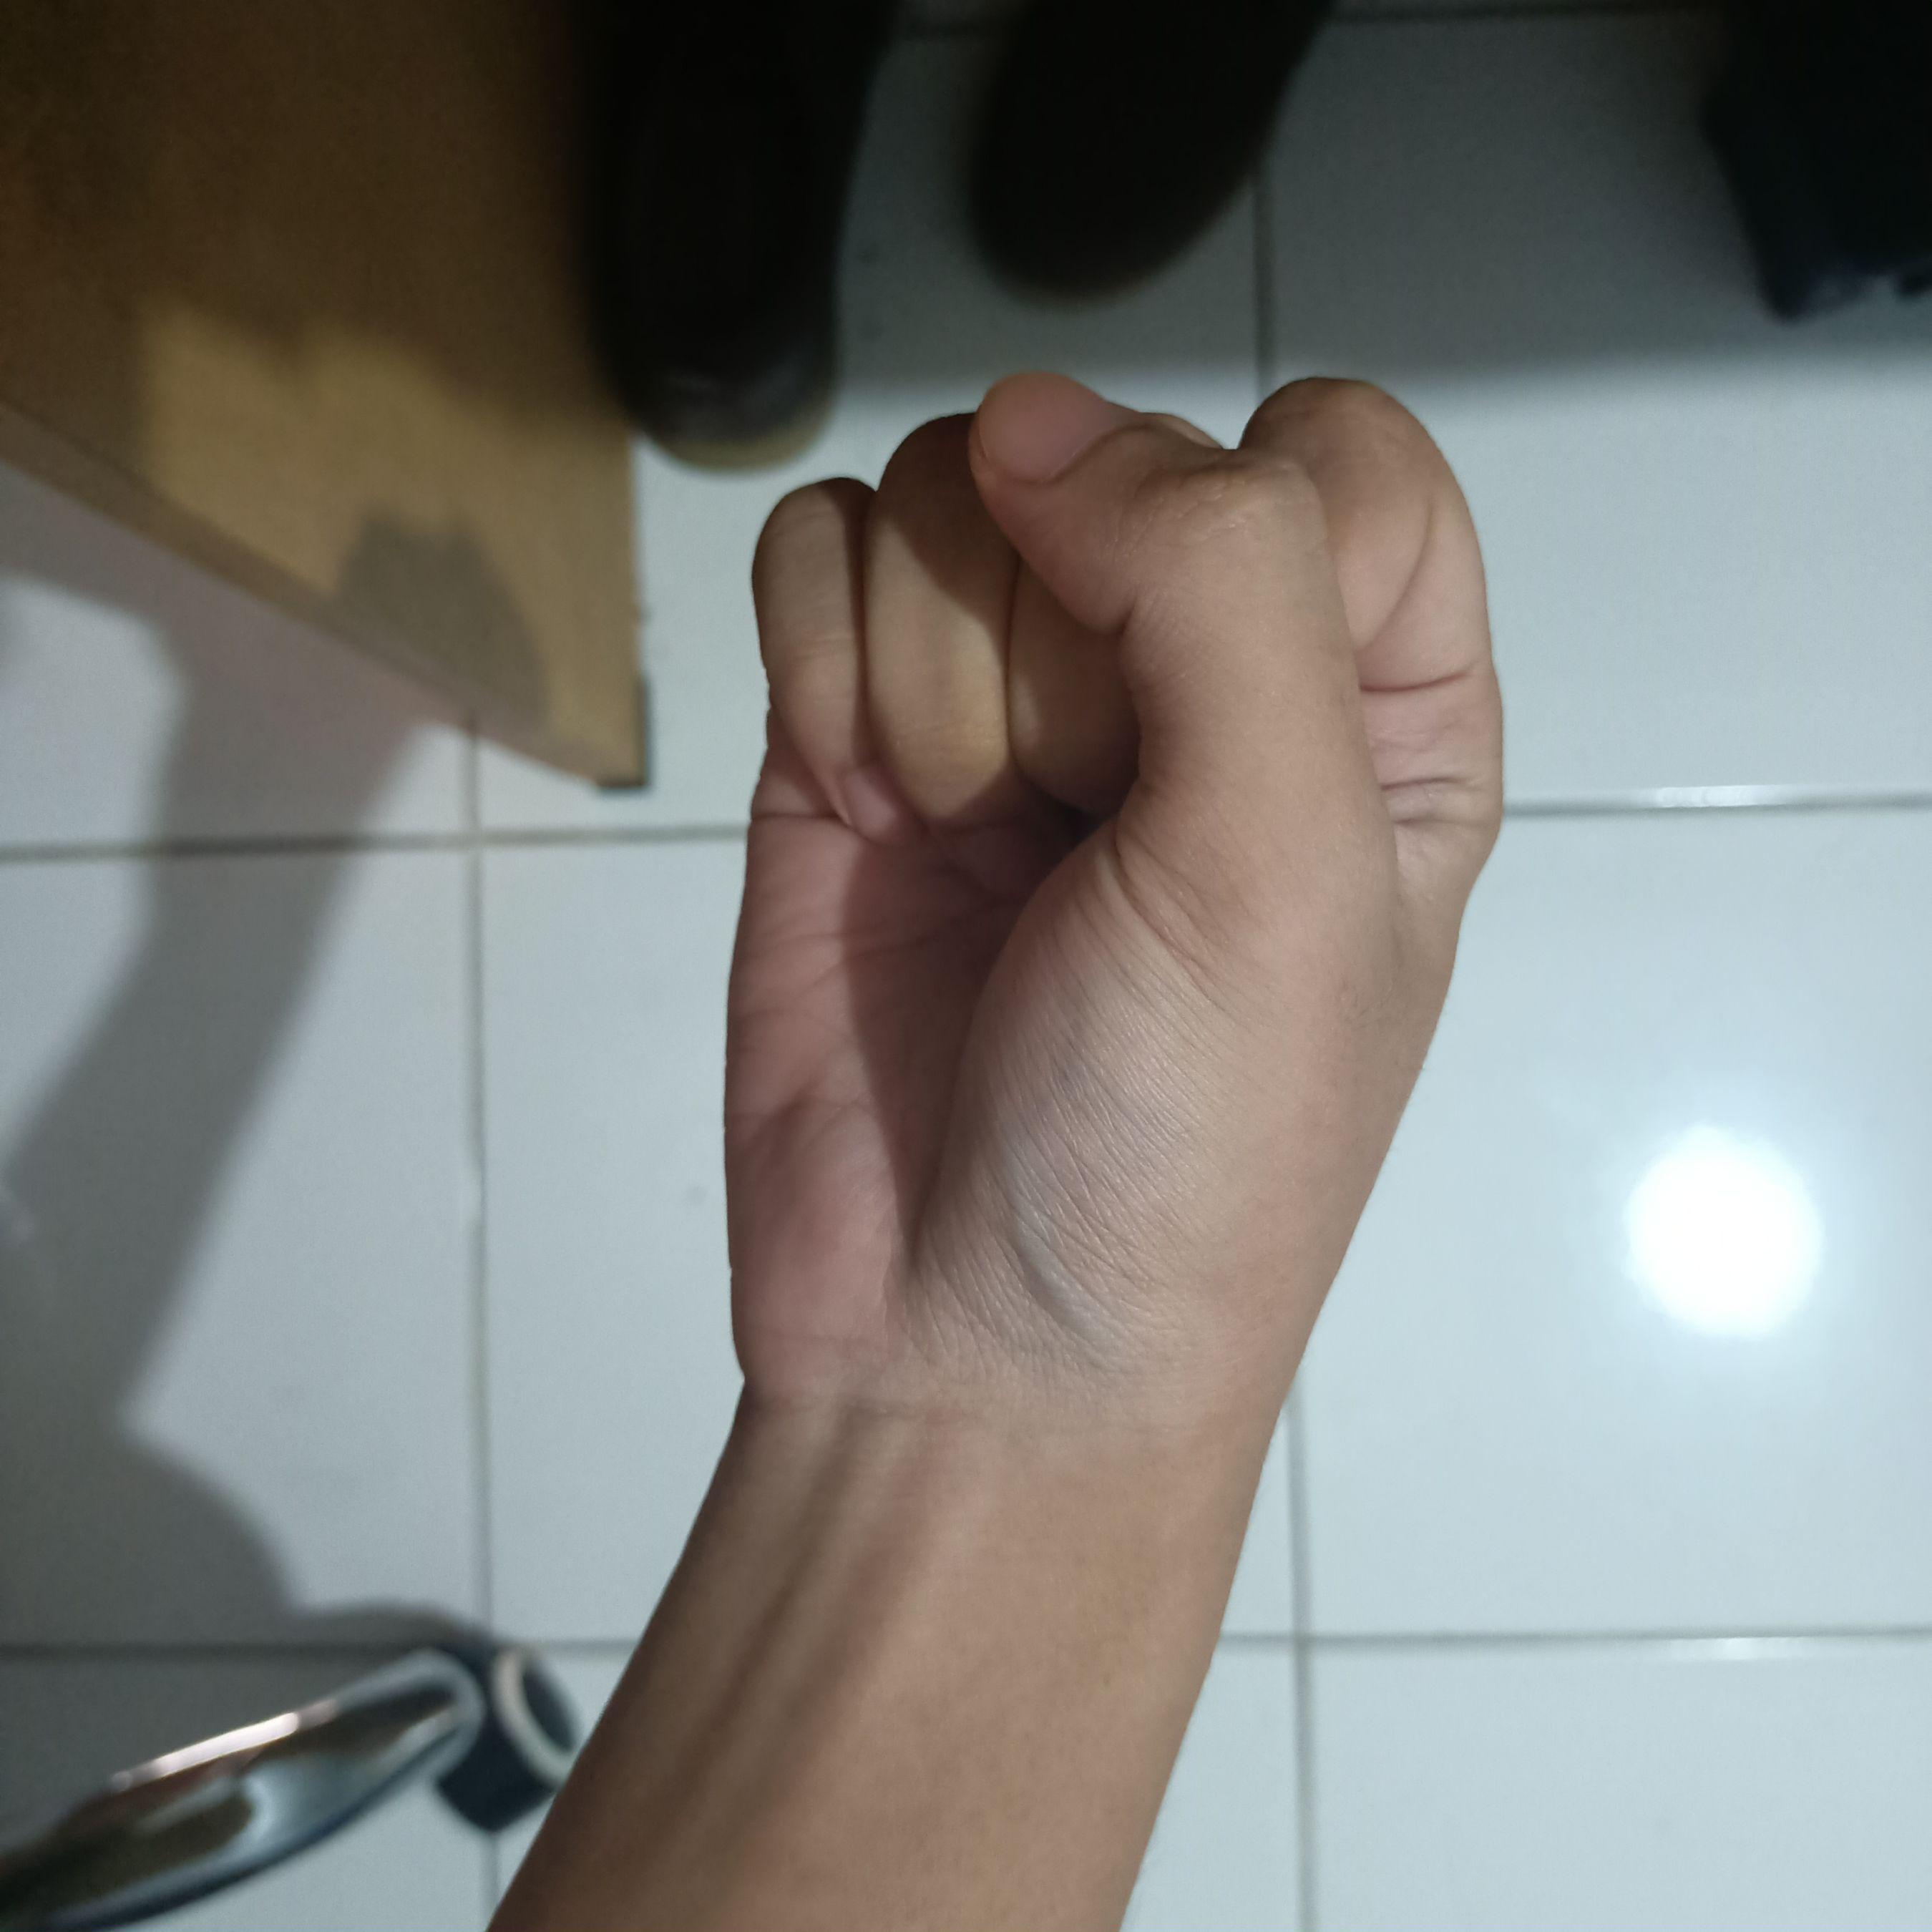rock: (720, 354, 1514, 1454)
